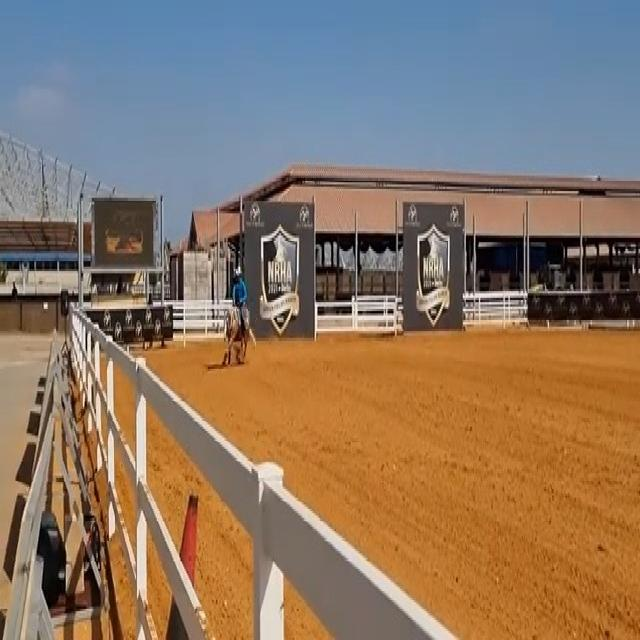horse: (219, 300, 255, 367)
